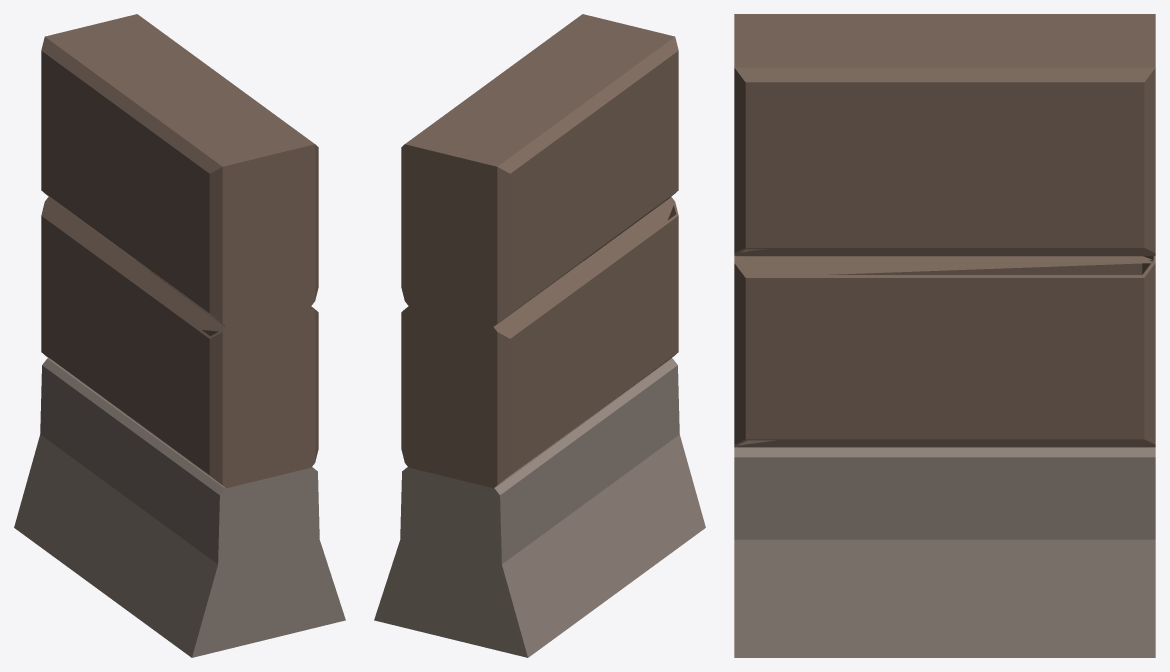
The picture shows the model from 3 angles, left to right: view 1: azimuth 30°, elevation 25°; view 2: azimuth 150°, elevation 25°; view 3: azimuth 270°, elevation 25°; orthographic projection. The views are drawn at different scales.
Visible parts, largest first — view 1: barrier; view 2: barrier; view 3: barrier.
Part boxes in pixels (left/top/right/bottom): barrier: left=14, top=14, right=345, bottom=657; barrier: left=374, top=14, right=705, bottom=657; barrier: left=734, top=14, right=1155, bottom=657.
Bounding box in the file's own units: 1 × 3 × 2.
